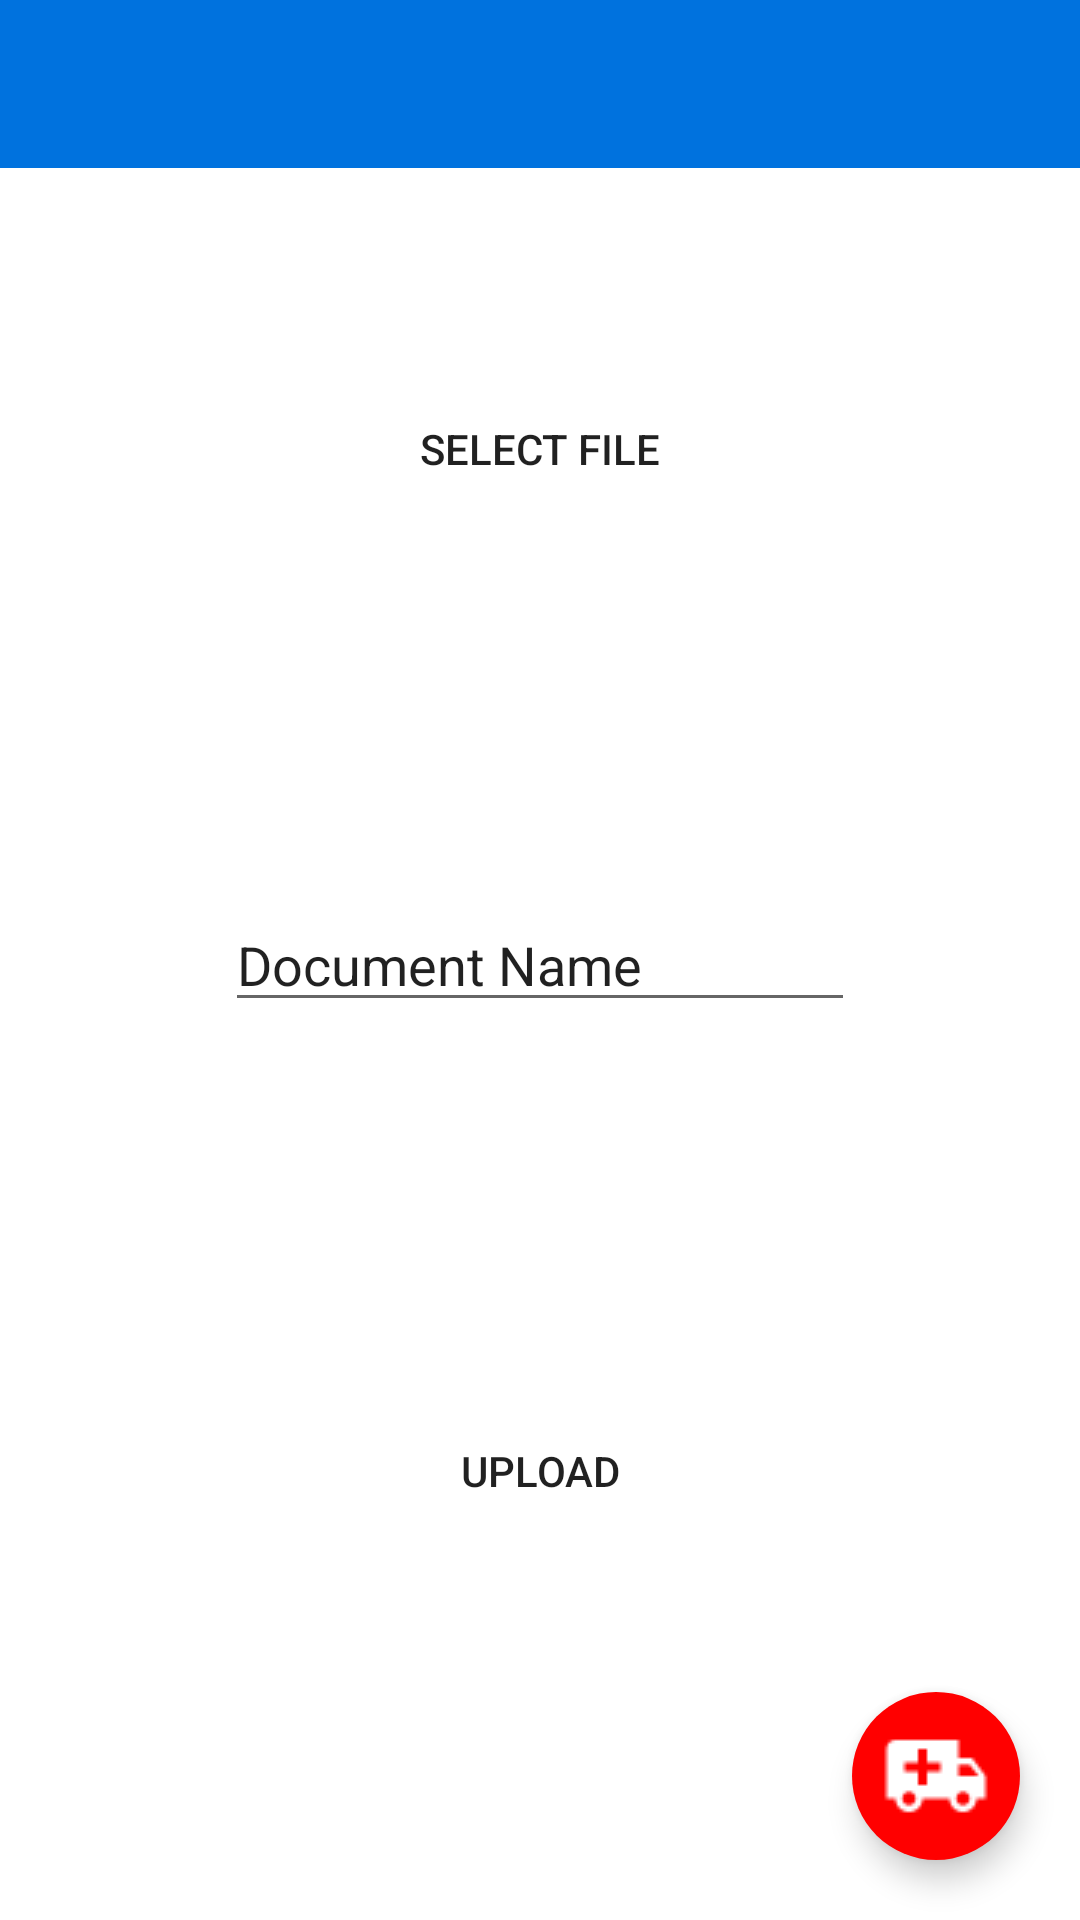

Screen size 1080w x 1920h. Icon name, then its center in pixels as (x,y):
SOS: (936,1776)
